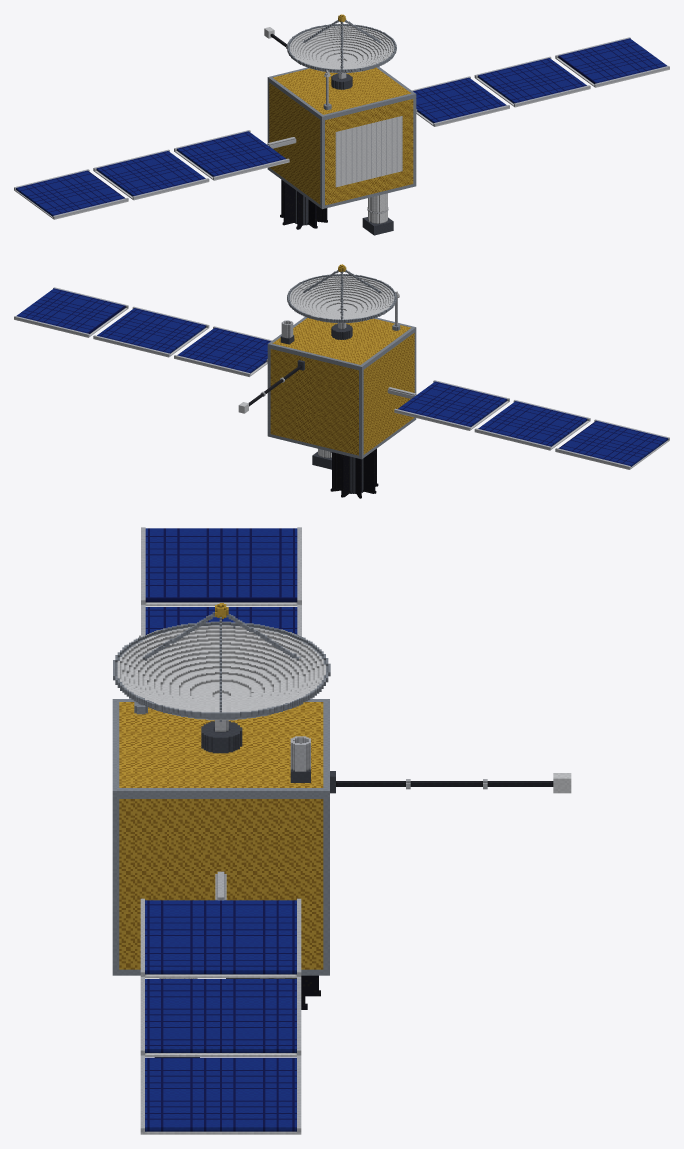
Rendered from satellite_assembled.glb.
The picture shows the model from 3 angles, top to bottom: view 1: azimuth 30°, elevation 25°; view 2: azimuth 150°, elevation 25°; view 3: azimuth 270°, elevation 25°; orthographic projection. The views are drawn at different scales.
Parts seen in each view (by area): view 1: satellite_assembled; view 2: satellite_assembled; view 3: satellite_assembled.
Part boxes in pixels (x1,y1,x2,y2): satellite_assembled: (14,14,669,235); satellite_assembled: (14,264,669,498); satellite_assembled: (112,527,571,1134).
Bounding box in the file's own units: 9.81 × 3.23 × 3.17.
